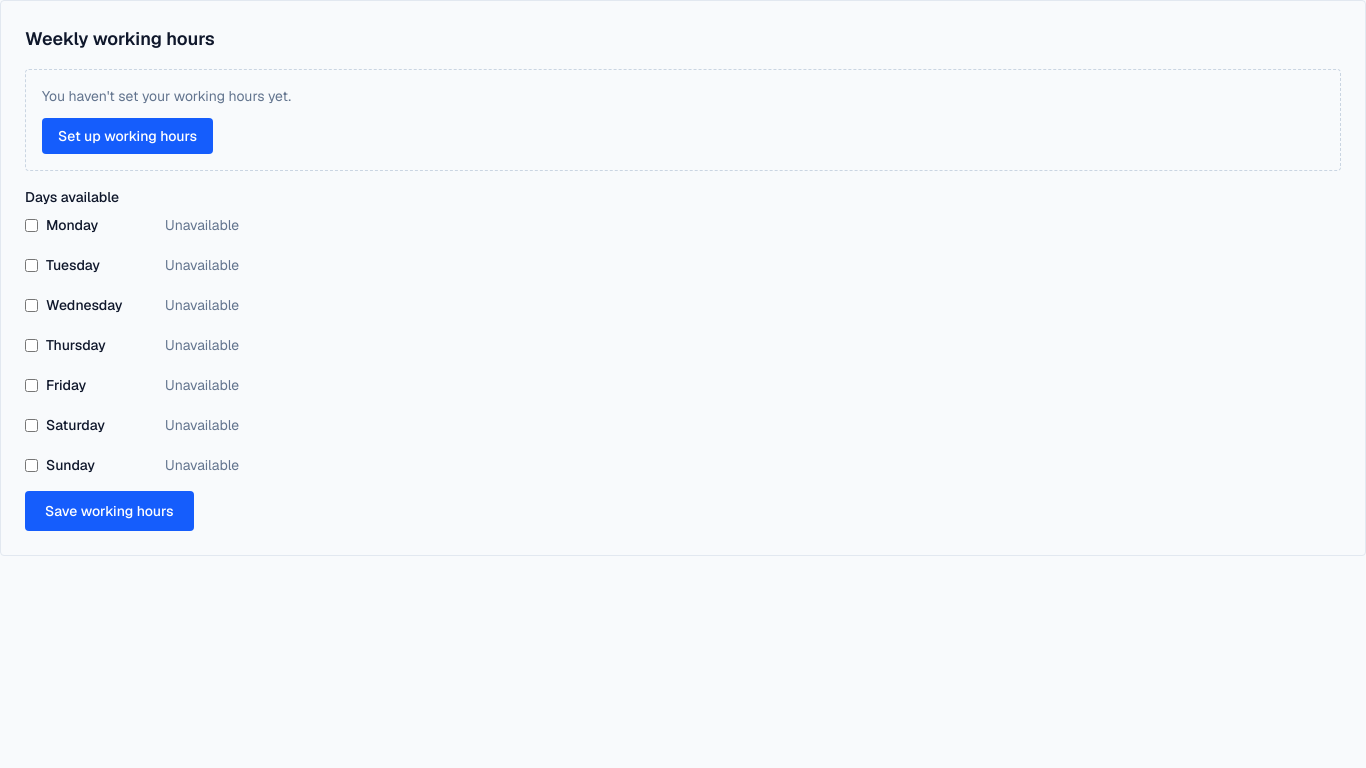
Scenario: WorkingHoursSection › rejects an end time before the start time with a day-specific inline error, and does not save
This screenshot has width=1366, height=768.
Step 1. Click the checkbox labelled "Monday" → click(32, 225), box [25, 218, 38, 232]
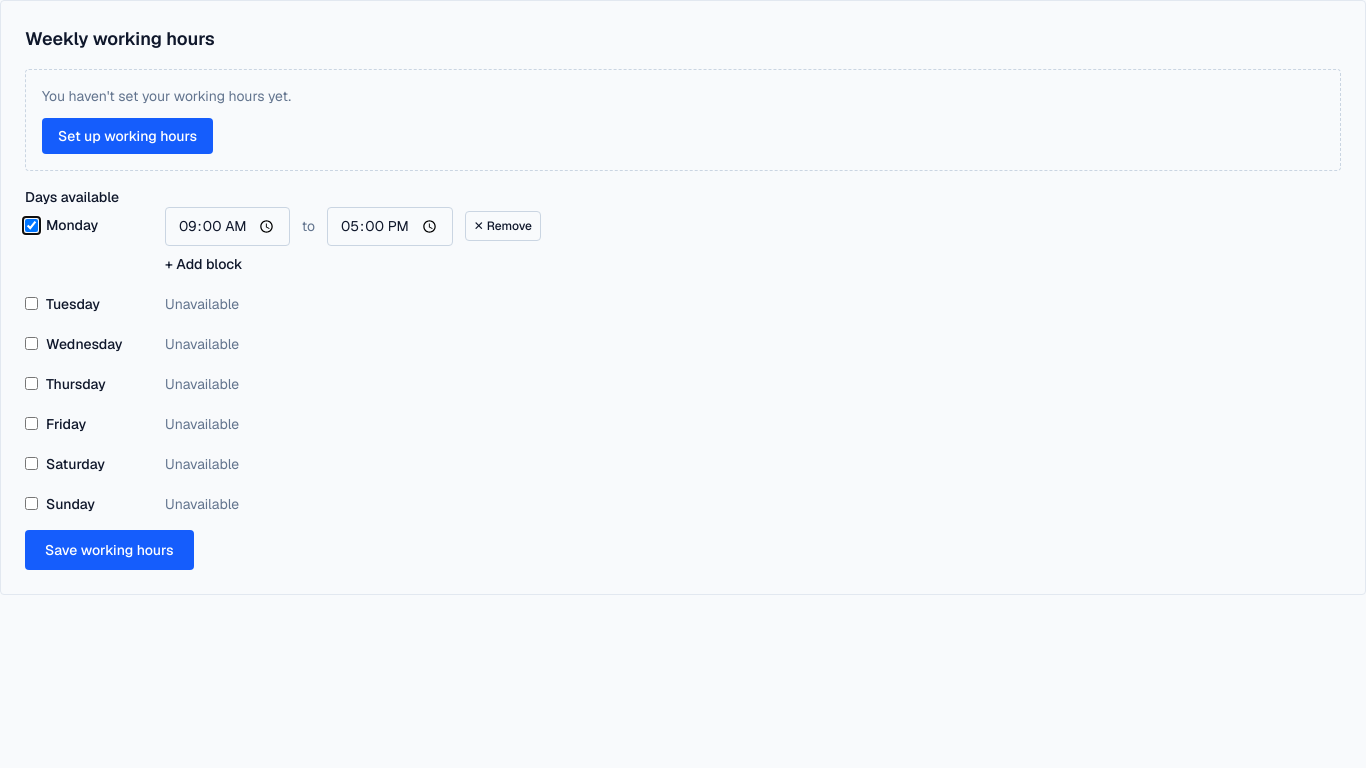
Step 2. Replace the text in the 1st time field named "Monday block 1 start time" with "17:00" → (227, 226), box [165, 207, 290, 246]
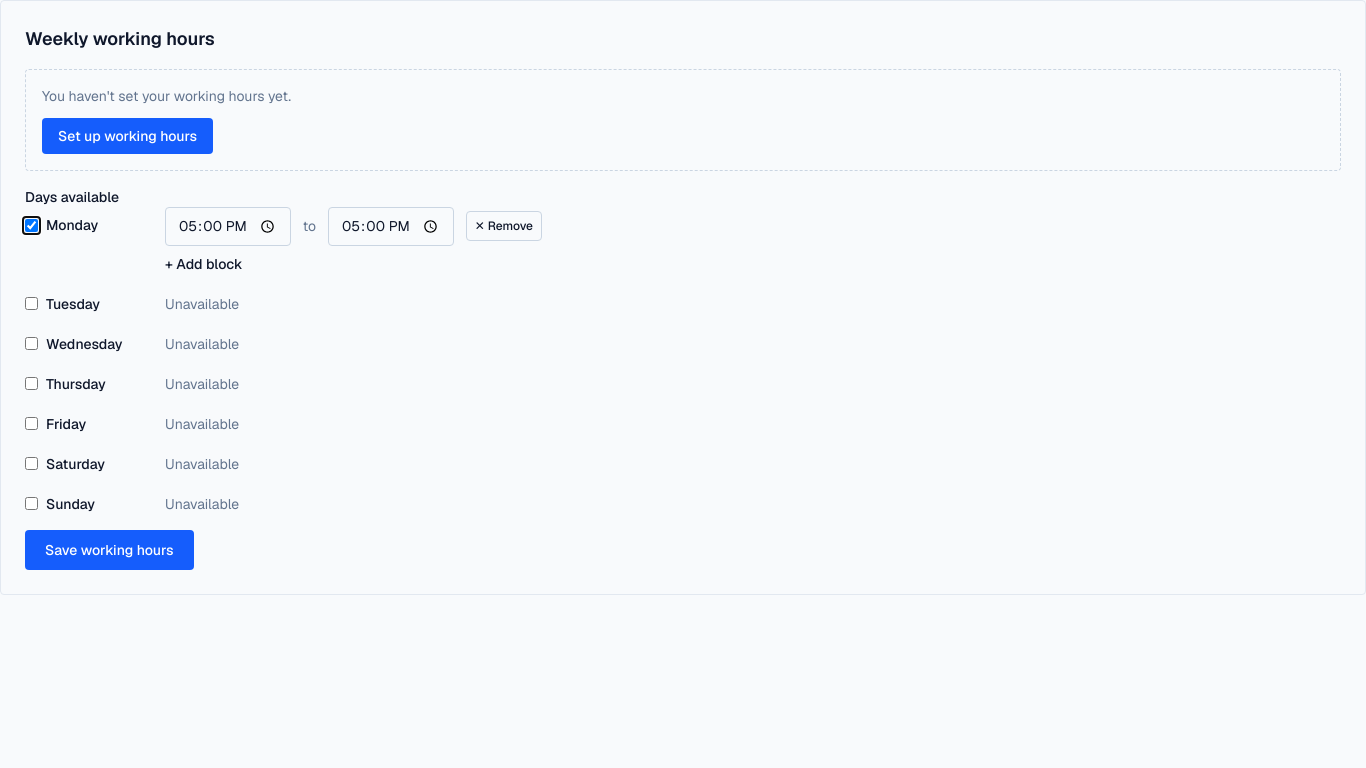
Step 3. Replace the text in the 2nd time field named "Monday block 1 end time" with "09:00" → (391, 226), box [328, 207, 454, 246]
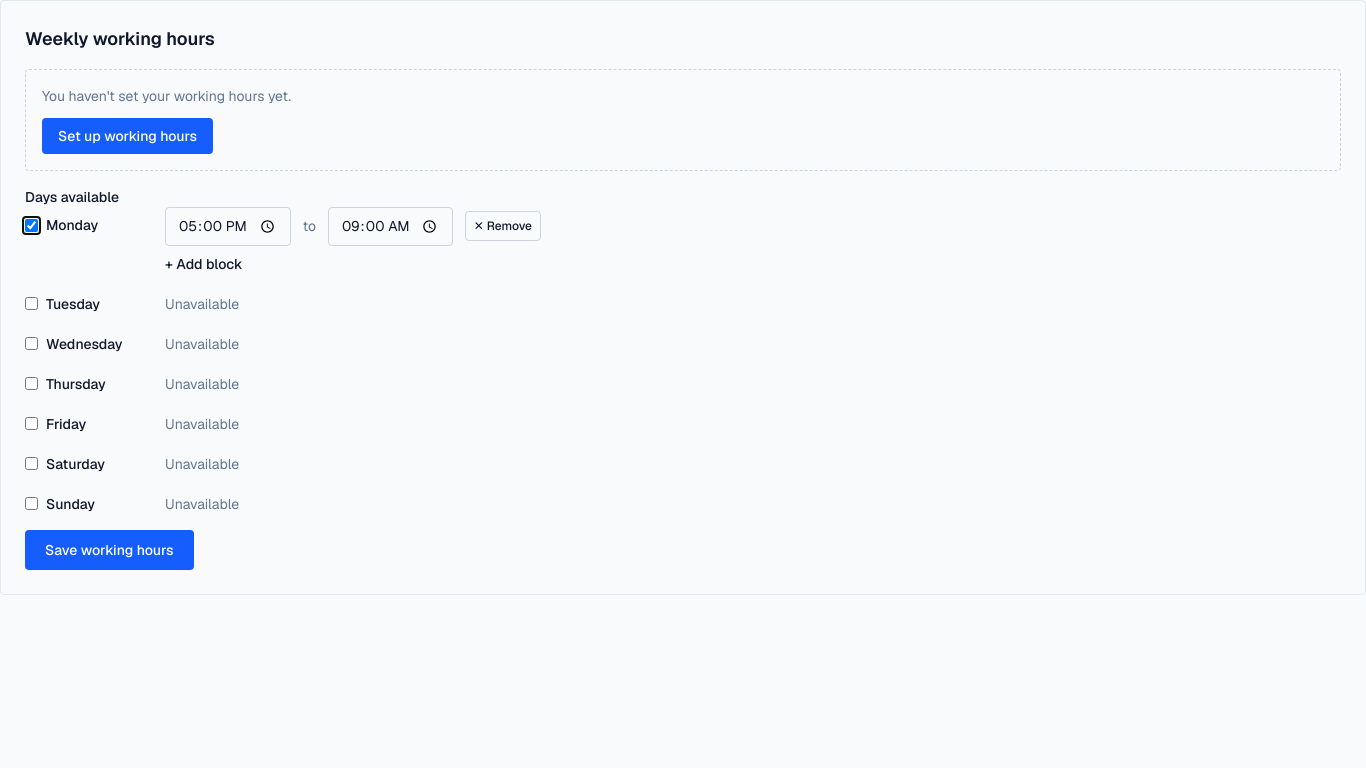
Step 4. Click the button "Save working hours" → click(109, 550), box [25, 530, 194, 570]
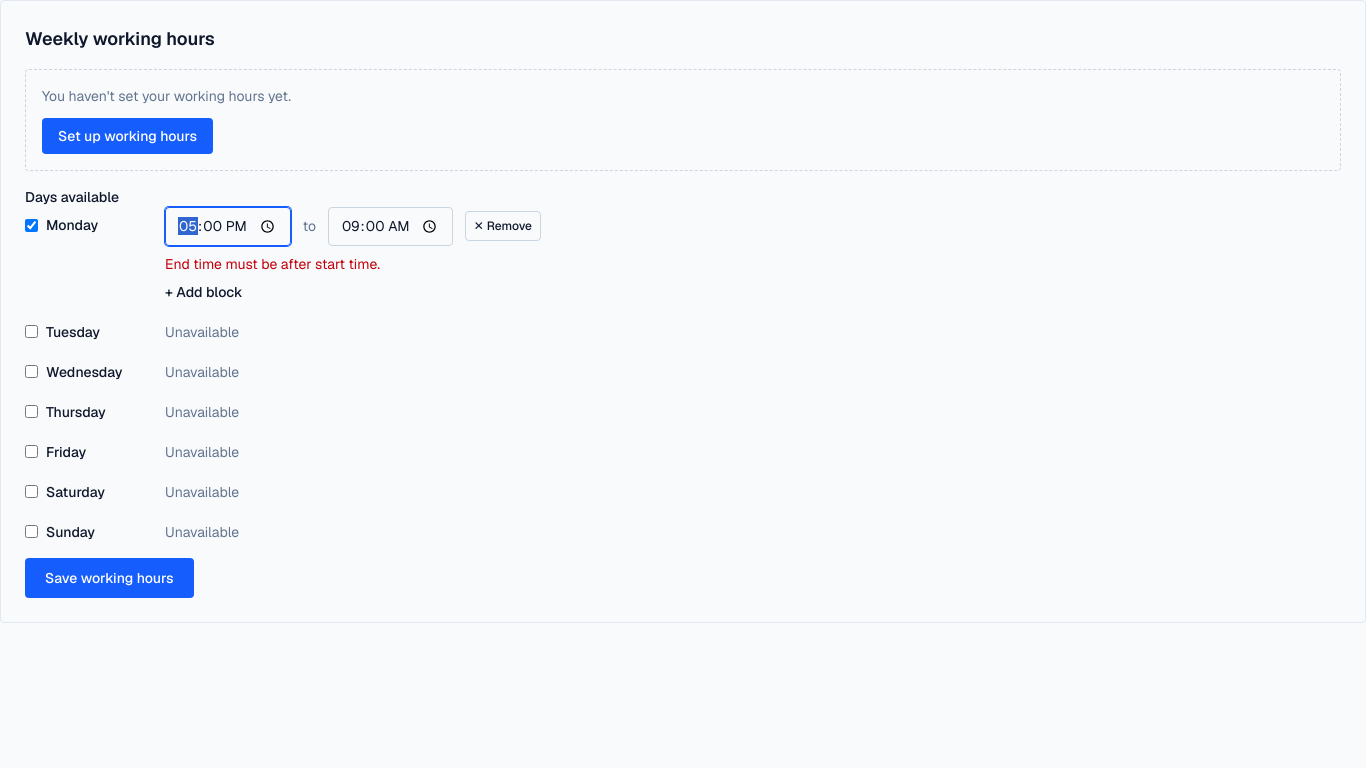
Result: the text "End time must be after start time." is shown at [165, 255, 380, 273]
